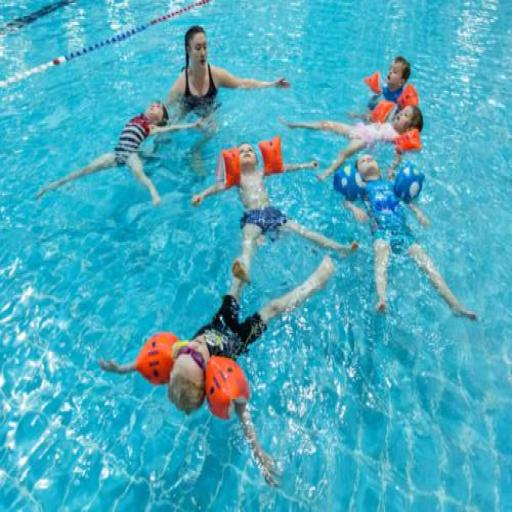swimming: (96, 252, 337, 490), (190, 135, 360, 286), (32, 97, 206, 210), (276, 101, 425, 179), (317, 148, 431, 232), (355, 53, 420, 126)
